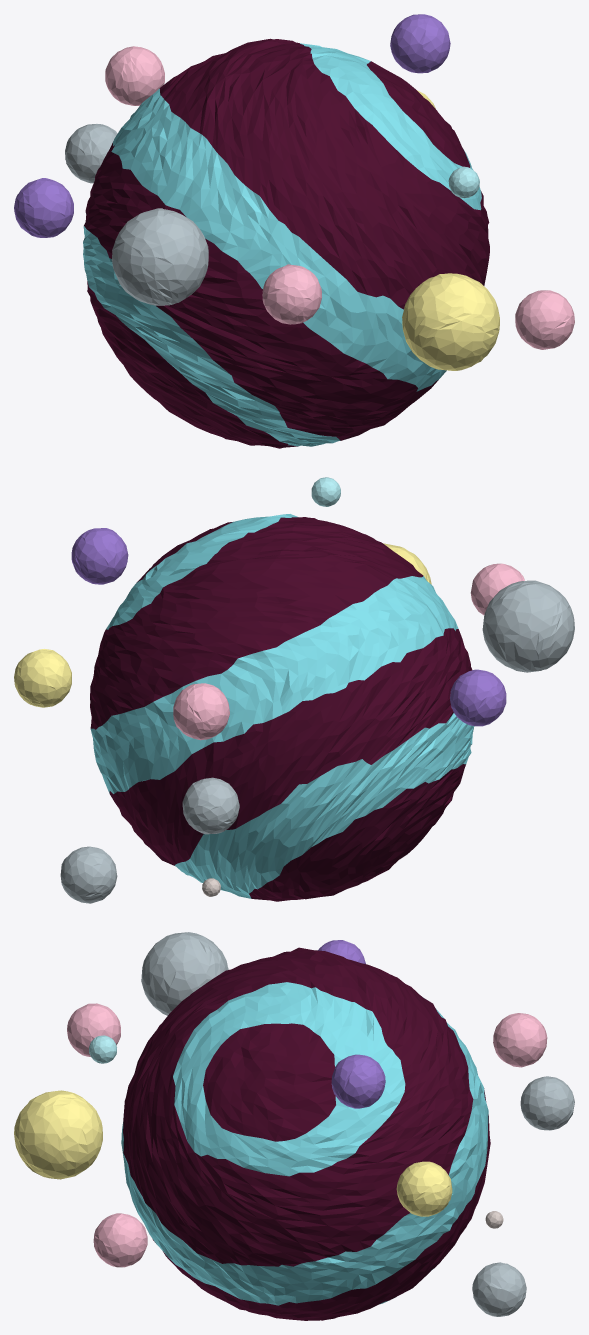
File: Planet_1.glb
3 renders of one model, top to bottom at view 1: azimuth 30°, elevation 25°; view 2: azimuth 150°, elevation 25°; view 3: azimuth 270°, elevation 25°, orthographic. The views are drawn at different scales.
Parts seen in each view (by area): view 1: Planet_1; view 2: Planet_1; view 3: Planet_1.
Boxes of the visible parts, bbox=[...] form: Planet_1: bbox=[14, 14, 574, 448]; Planet_1: bbox=[14, 477, 574, 903]; Planet_1: bbox=[14, 932, 574, 1320].
Bounding box in the file's own units: 26.42 × 20.01 × 30.62.
Materials: 1 (1 with a texture image).
